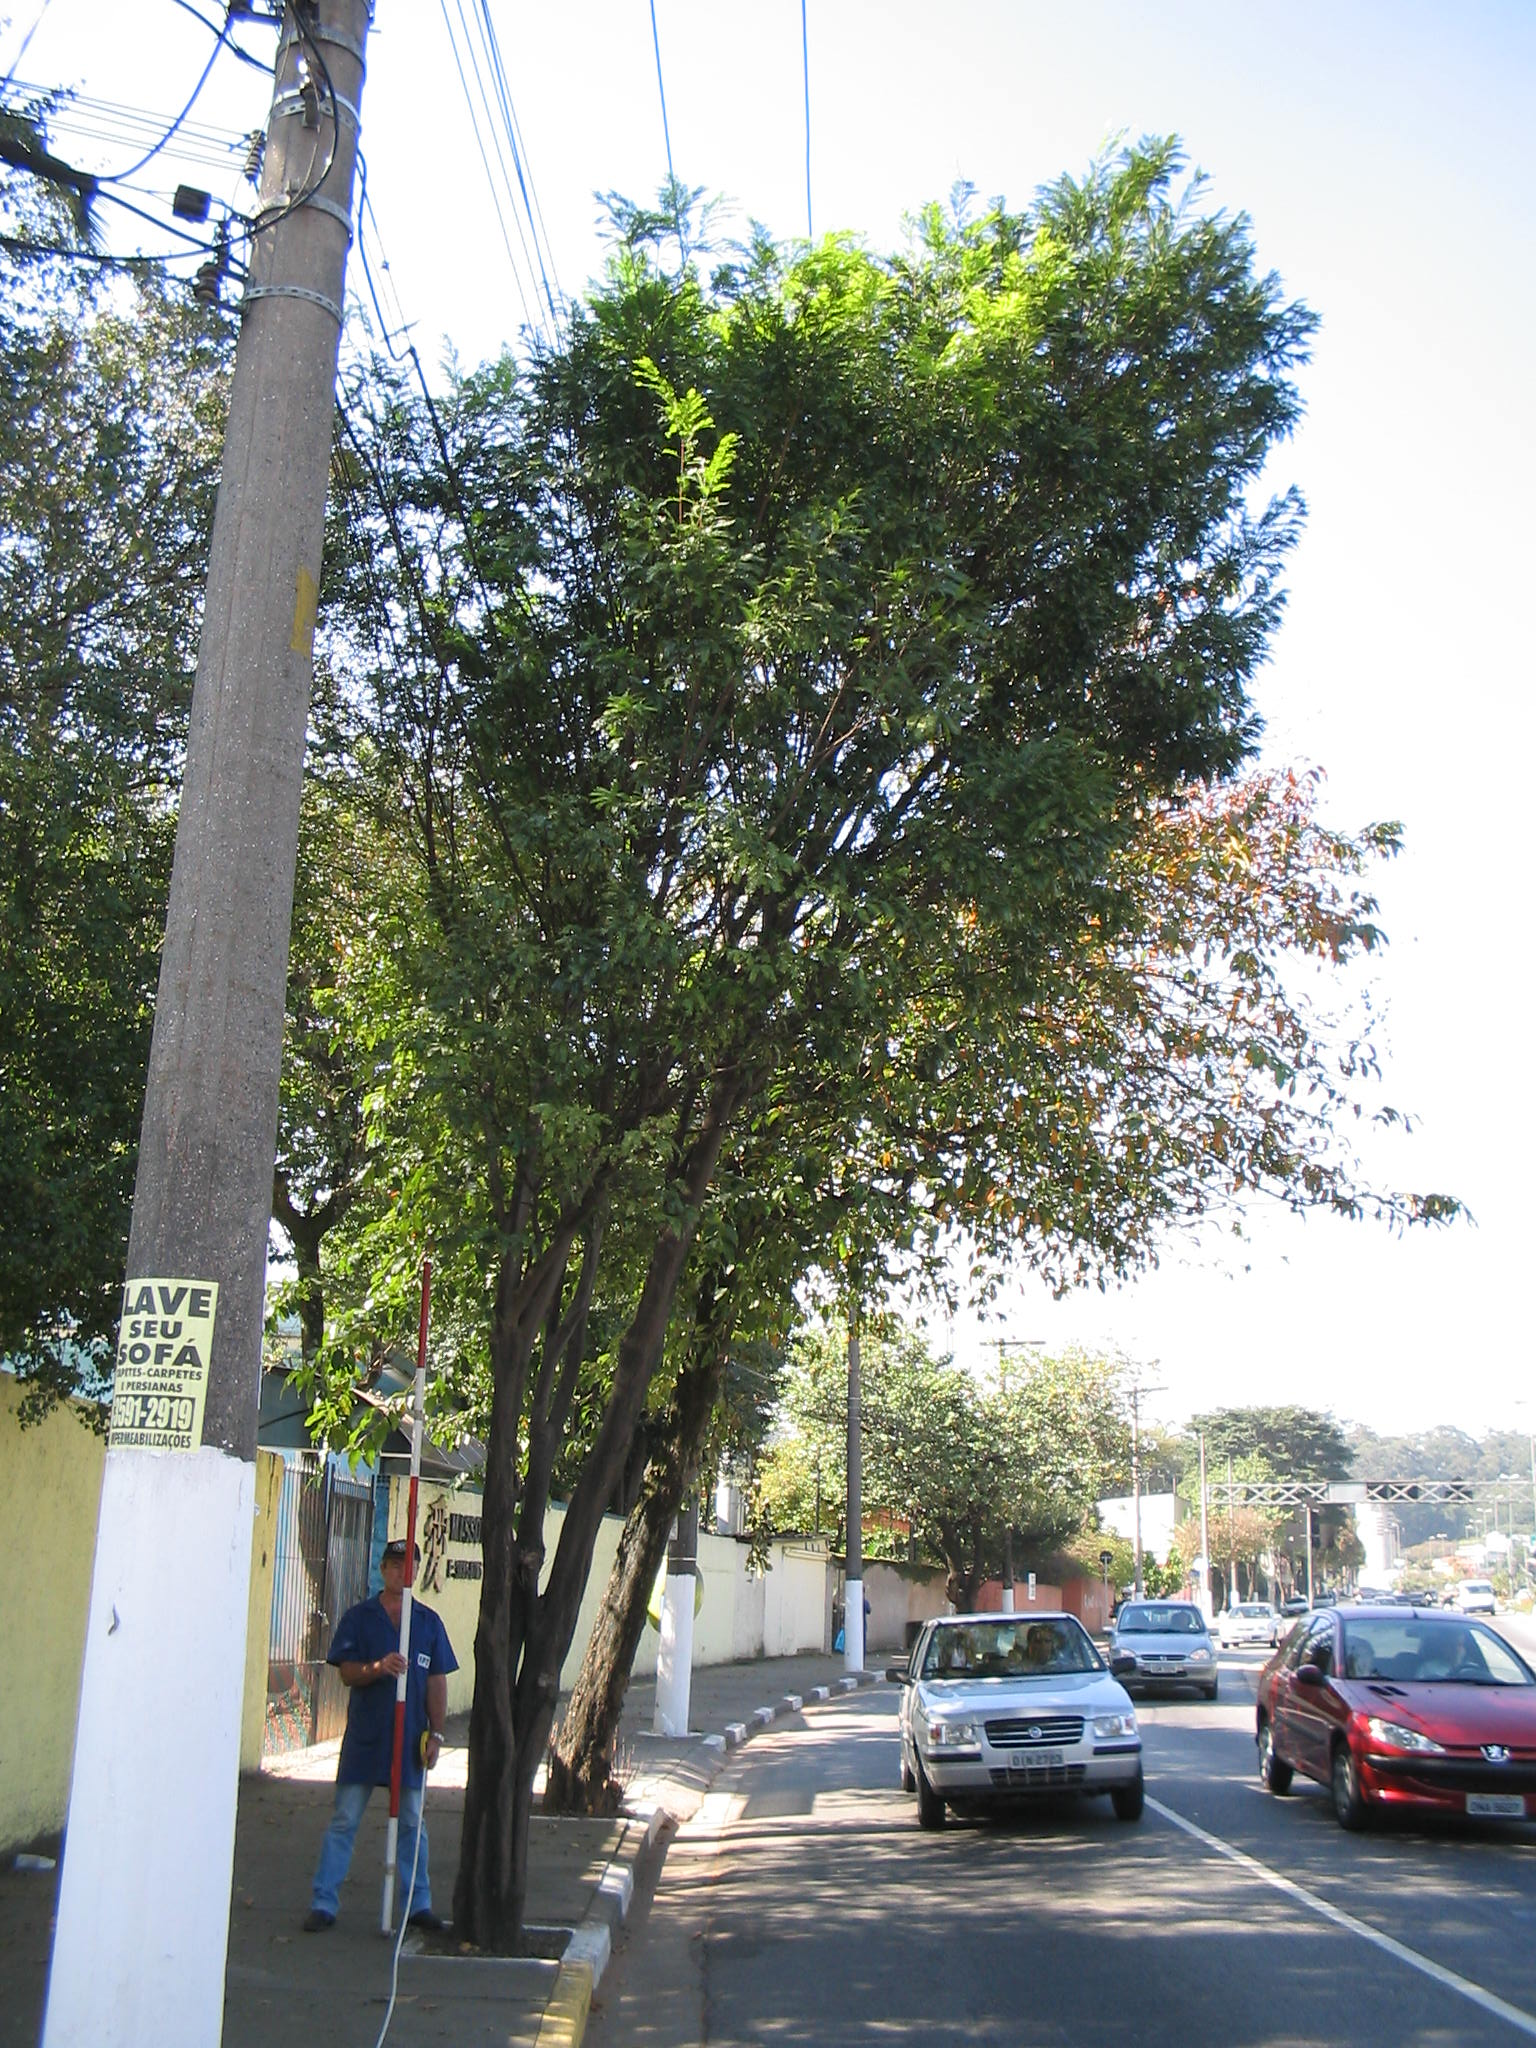crown: (403, 137, 1307, 1287)
stem: (416, 1705, 574, 1954)
stick: (369, 1258, 440, 1938)
tree: (394, 132, 1312, 1958)
